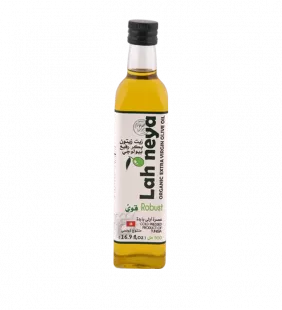LAHNEYA: (107, 12, 180, 276)
